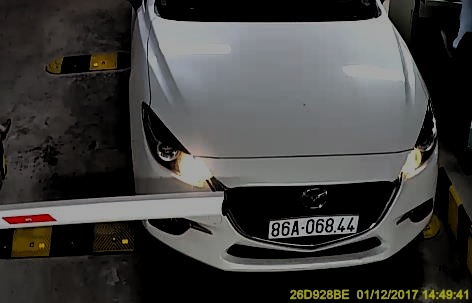plate: (267, 213, 359, 241)
